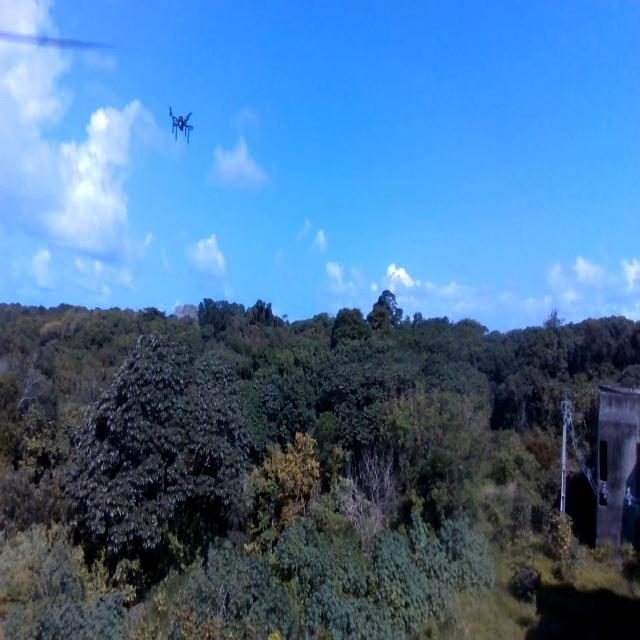-uav-: (161, 98, 201, 161)
